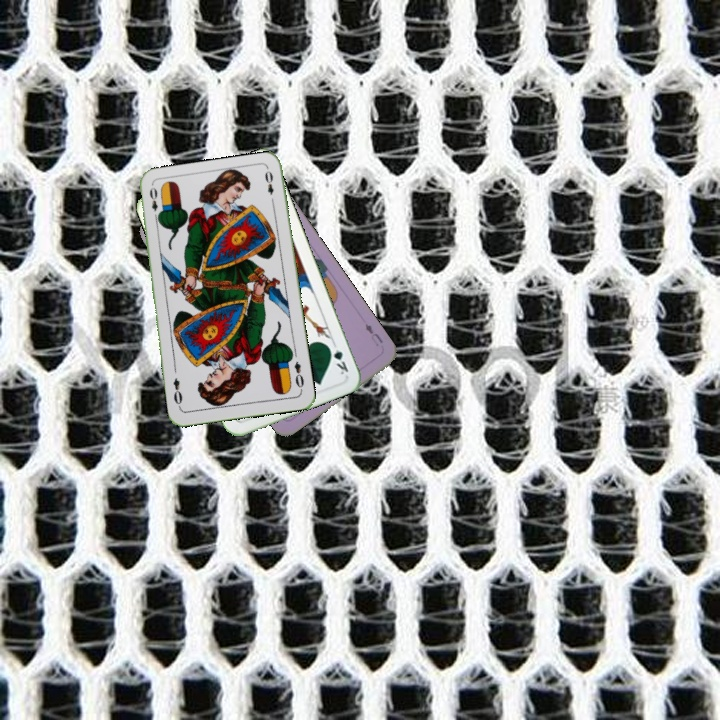EO: (145, 184, 162, 224), (290, 357, 307, 393)
EU: (359, 316, 386, 349)
GK: (324, 338, 351, 377)
